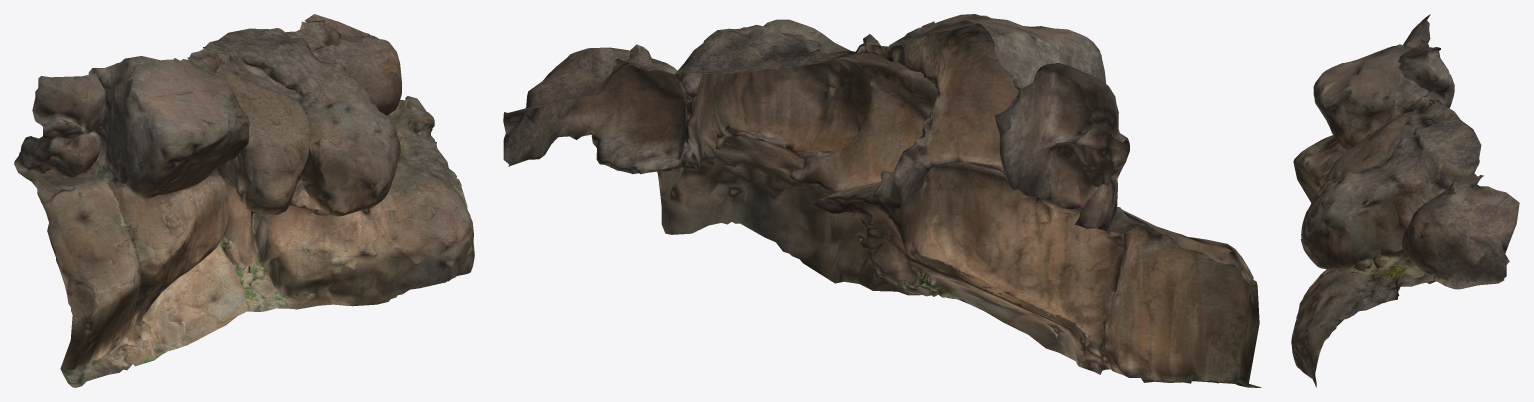
The model's file is namaqualand_cliff_01.glb.
3 views of the same model, side by side, from view 1: azimuth 30°, elevation 25°; view 2: azimuth 150°, elevation 25°; view 3: azimuth 270°, elevation 25° (orthographic). The views are drawn at different scales.
Visible parts, largest first — view 1: drone_rock_01; view 2: drone_rock_01; view 3: drone_rock_01.
Boxes of the visible parts, x1,y1,x2,y2 form: drone_rock_01: [14, 14, 474, 387]; drone_rock_01: [503, 14, 1261, 387]; drone_rock_01: [1291, 14, 1519, 387].
Size of the model in its own units: 8.28 by 4.96 by 4.39.
Materials: 1 (1 with a texture image).
